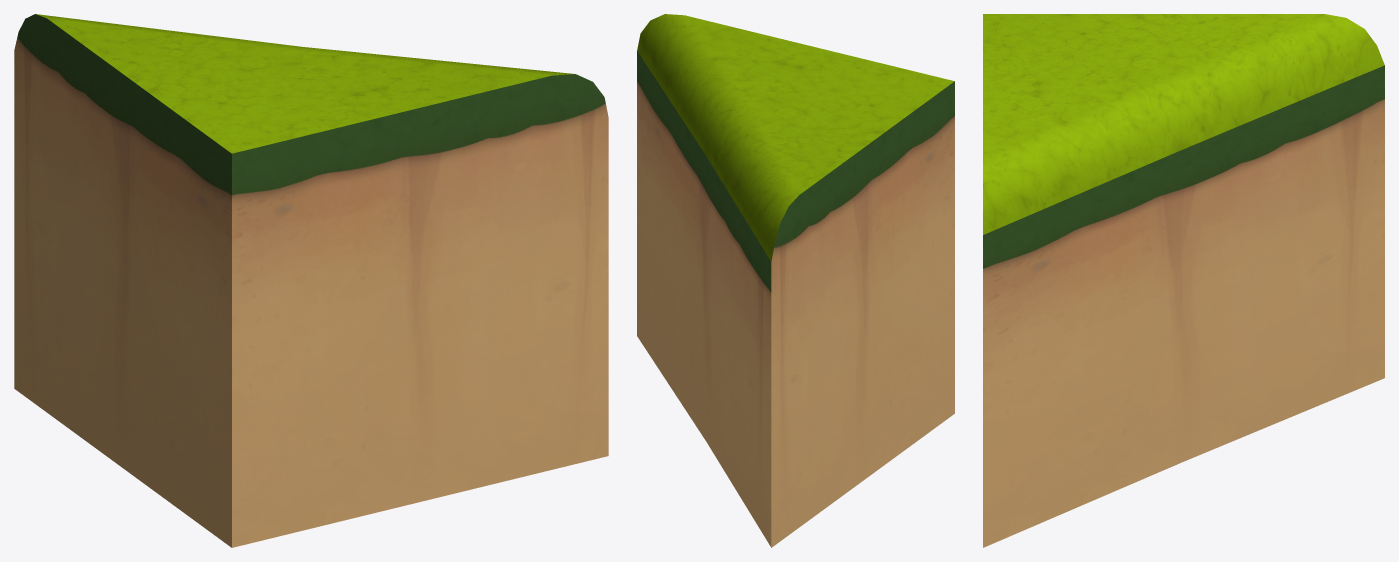
File: Terrrain_Module_Corner.fbx
3 views of the same model, side by side, from view 1: azimuth 30°, elevation 25°; view 2: azimuth 150°, elevation 25°; view 3: azimuth 270°, elevation 25° (orthographic). The views are drawn at different scales.
Visible parts, largest first — view 1: Cube.043; view 2: Cube.043; view 3: Cube.043.
Part boxes in pixels (x1,y1,x2,y2): Cube.043: (14, 14, 608, 547); Cube.043: (637, 14, 954, 547); Cube.043: (983, 14, 1384, 547).
Bounding box in the file's own units: 4 × 4 × 4.
